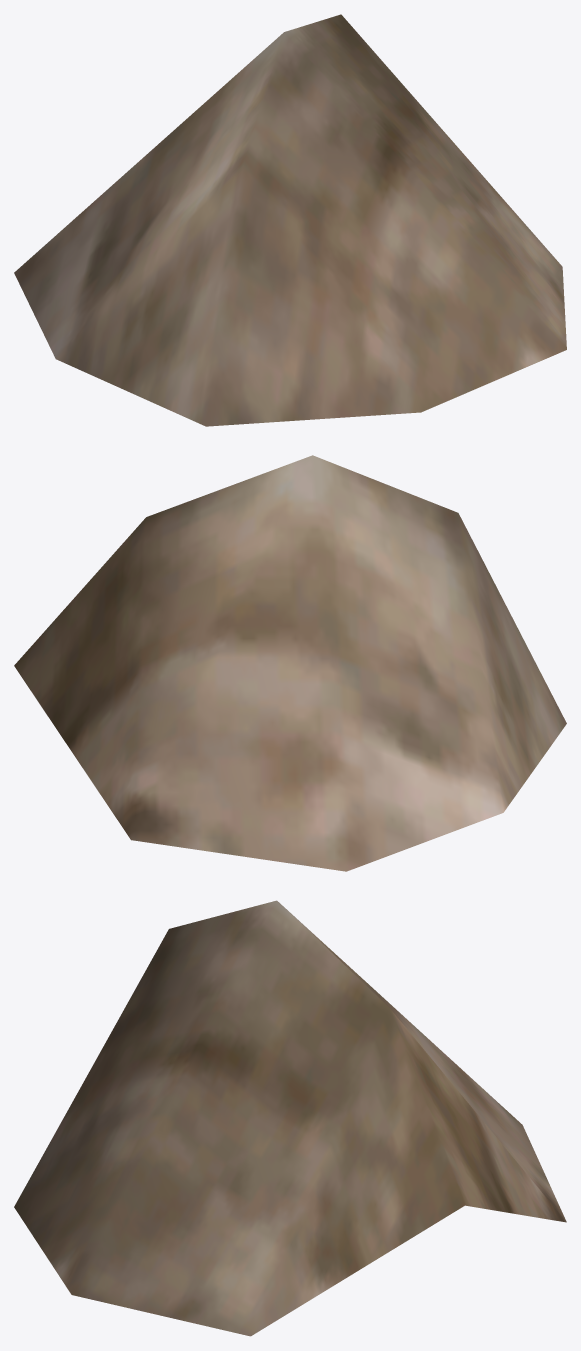
Rendered from OVERHILL_A_01_ROCK65.fbx.
The picture shows the model from 3 angles, top to bottom: view 1: azimuth 30°, elevation 25°; view 2: azimuth 150°, elevation 25°; view 3: azimuth 270°, elevation 25°; orthographic projection. The views are drawn at different scales.
Parts seen in each view (by area): view 1: OVERHILL_A_01_ROCK65; view 2: OVERHILL_A_01_ROCK65; view 3: OVERHILL_A_01_ROCK65.
Part boxes in pixels (<box>): OVERHILL_A_01_ROCK65: <box>14,14,566,426</box>; OVERHILL_A_01_ROCK65: <box>14,455,566,871</box>; OVERHILL_A_01_ROCK65: <box>14,900,566,1336</box>.
Bounding box in the file's own units: 2361 × 1379 × 2293.
1 material, 1 textured.
